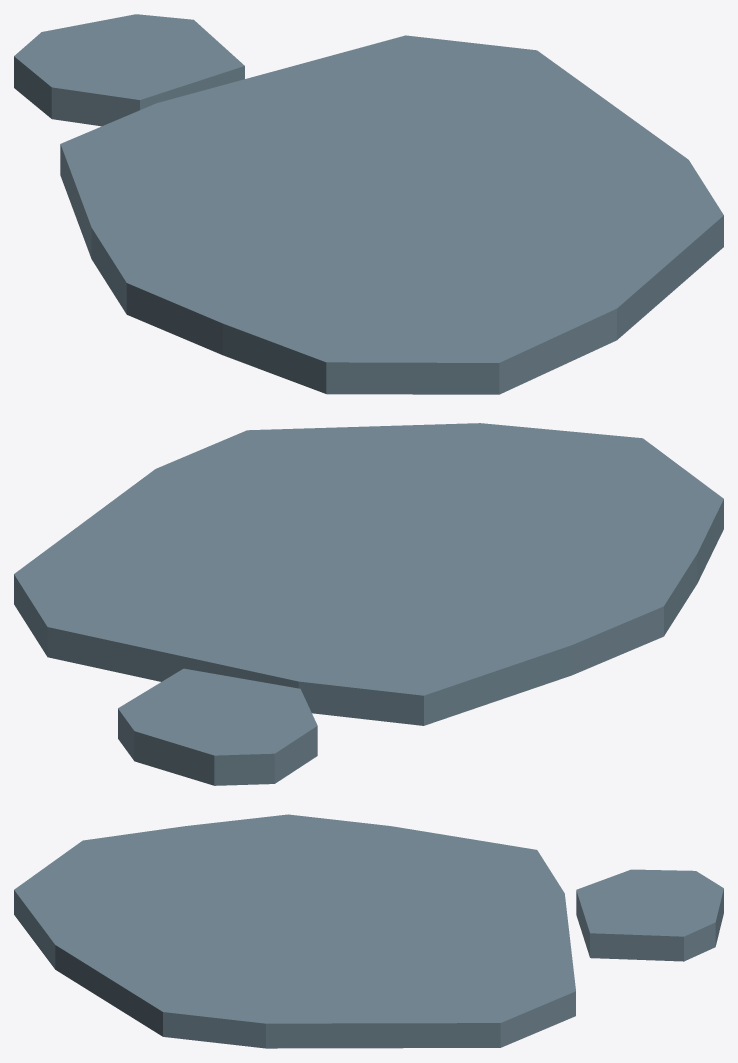
File: Broken Floor (1).obj
The picture shows the model from 3 angles, top to bottom: view 1: azimuth 30°, elevation 25°; view 2: azimuth 150°, elevation 25°; view 3: azimuth 270°, elevation 25°; orthographic projection. The views are drawn at different scales.
Parts seen in each view (by area): view 1: group1834761066, group1463012485; view 2: group1834761066, group1463012485; view 3: group1834761066, group1463012485.
Part boxes in pixels (x1=…): group1834761066: x1=60, y1=35, x2=723, y2=394; group1463012485: x1=14, y1=14, x2=244, y2=126; group1834761066: x1=14, y1=423, x2=723, y2=725; group1463012485: x1=118, y1=668, x2=317, y2=785; group1834761066: x1=14, y1=814, x2=575, y2=1048; group1463012485: x1=576, y1=869, x2=723, y2=961.
Size of the model in its own units: 0.361 by 0.02 by 0.5177.
